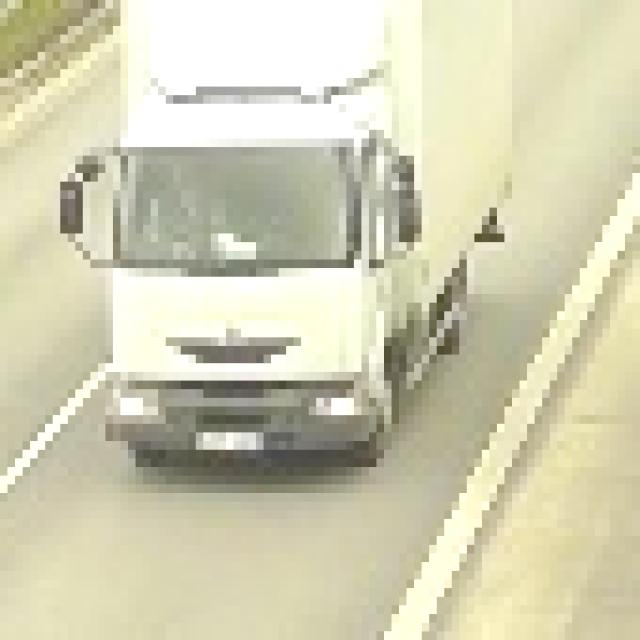truck: (62, 1, 506, 468)
